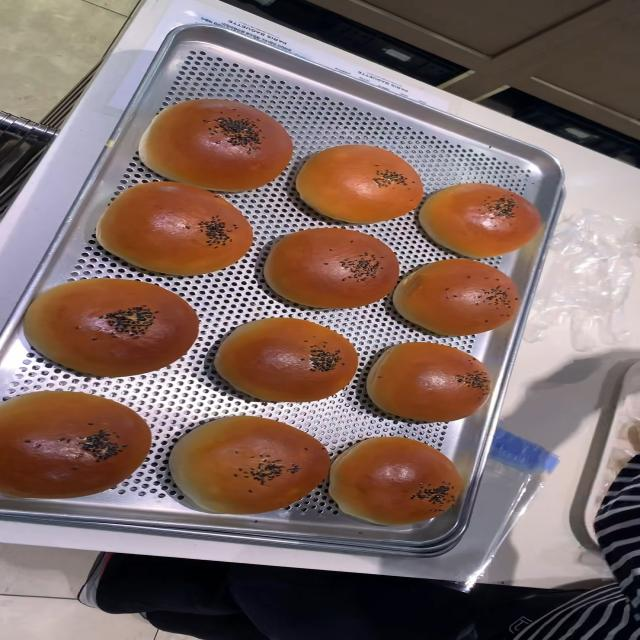bread: (22, 276, 202, 384), (0, 385, 160, 505), (171, 416, 327, 514), (208, 315, 360, 407), (136, 104, 291, 191), (93, 189, 251, 273), (260, 227, 402, 317), (328, 441, 468, 528), (359, 340, 494, 424), (295, 146, 423, 226), (393, 260, 523, 333), (419, 186, 547, 260)
